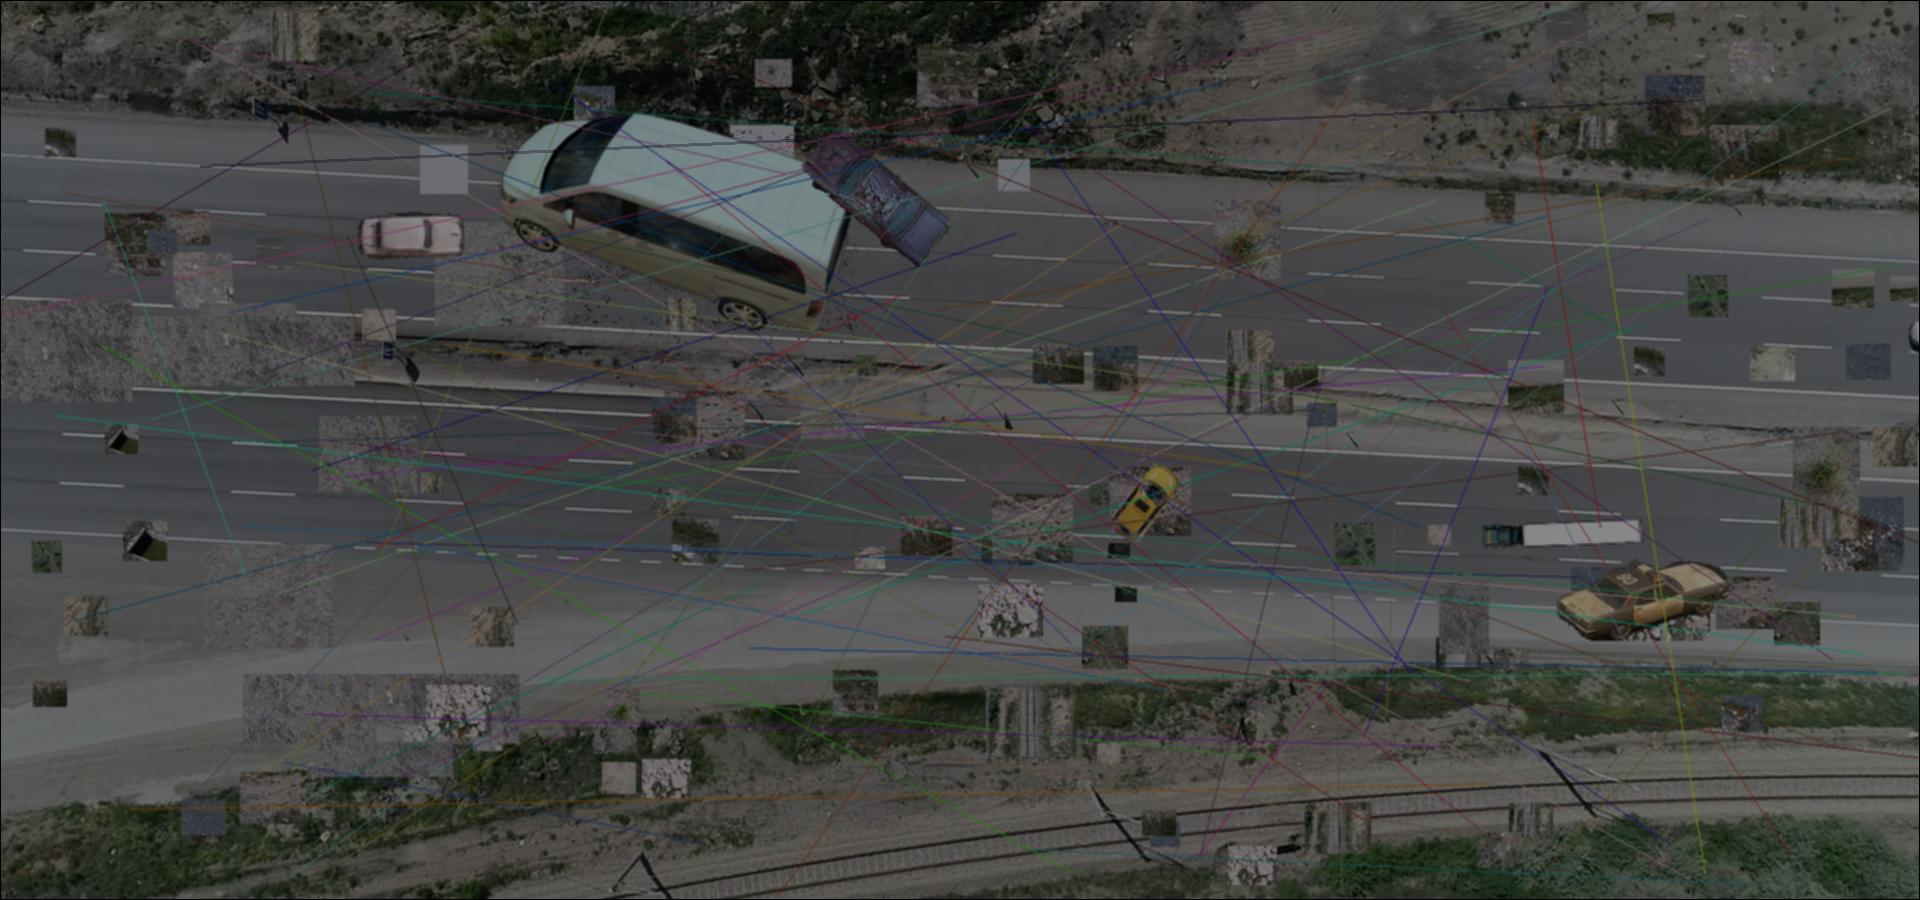arac: (497, 110, 857, 344), (795, 122, 953, 269), (1558, 553, 1738, 640), (353, 211, 469, 262), (1109, 460, 1180, 544), (1480, 518, 1644, 550)
